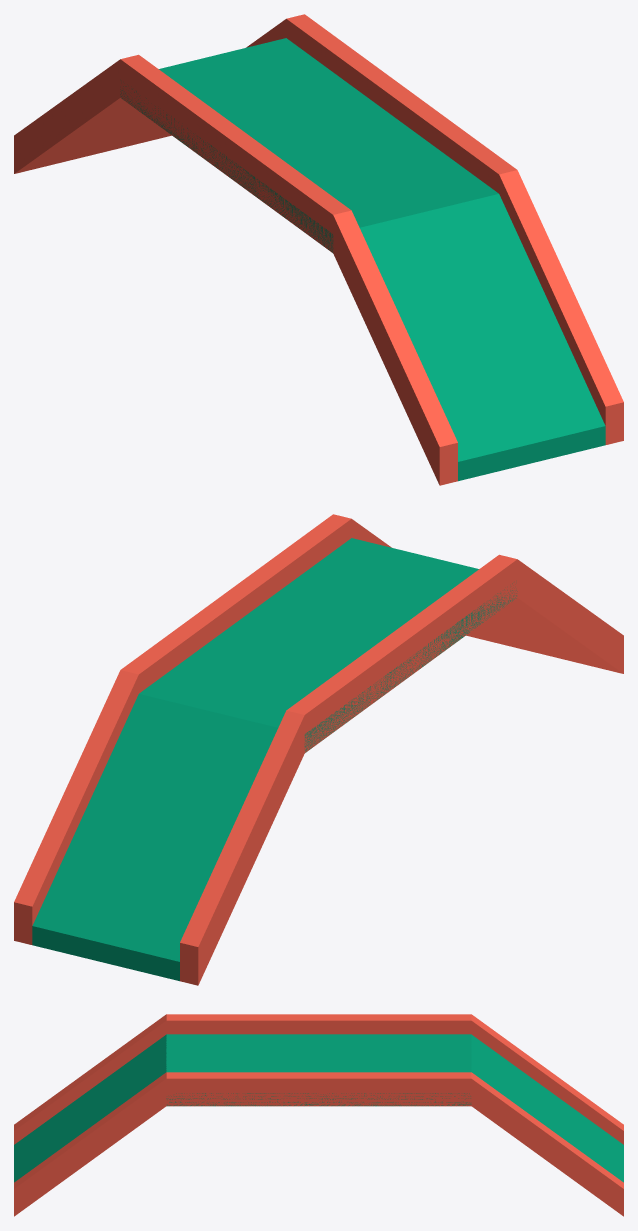
File: bridge.fbx
3 renders of one model, top to bottom at view 1: azimuth 30°, elevation 25°; view 2: azimuth 150°, elevation 25°; view 3: azimuth 270°, elevation 25°, orthographic. The views are drawn at different scales.
Parts seen in each view (by area): view 1: slope_straightD (×2), open (×2), straight_borders (×2); view 2: slope_straightD (×2), open (×2), straight_borders (×2); view 3: slope_straightD (×2), straight_borders (×2), open (×2).
Boxes of the visible parts, x1,y1,x2,y2 form: slope_straightD (×2): (14, 19, 623, 485); open (×2): (120, 38, 498, 252); straight_borders (×2): (120, 14, 516, 252); slope_straightD (×2): (14, 519, 623, 985); open (×2): (139, 538, 517, 752); straight_borders (×2): (121, 514, 517, 752); slope_straightD (×2): (14, 1014, 623, 1216); straight_borders (×2): (166, 1014, 471, 1106); open (×2): (166, 1034, 471, 1106).
Bounding box in the file's own units: 10 × 10 × 40.
